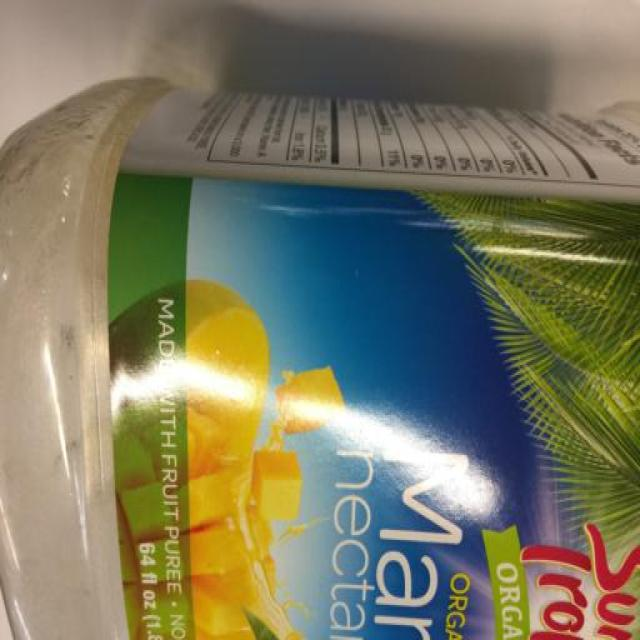Plastic: (0, 75, 640, 640)
